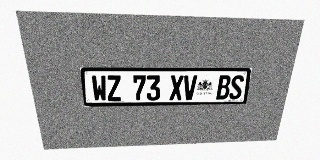3: (146, 75, 160, 101)
7: (132, 75, 146, 101)
B: (216, 75, 231, 100)
S: (229, 75, 244, 99)
V: (183, 75, 197, 100)
W: (91, 75, 107, 101)
X: (169, 75, 184, 100)
Z: (106, 75, 122, 101)
